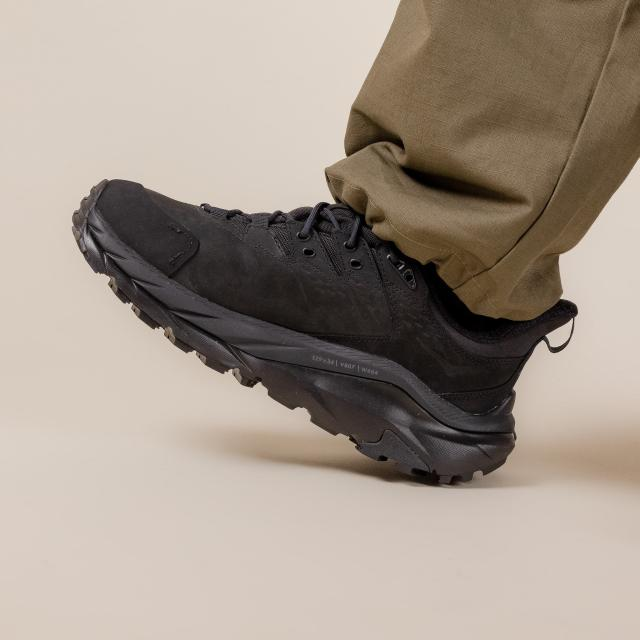shoe: (50, 160, 590, 507)
